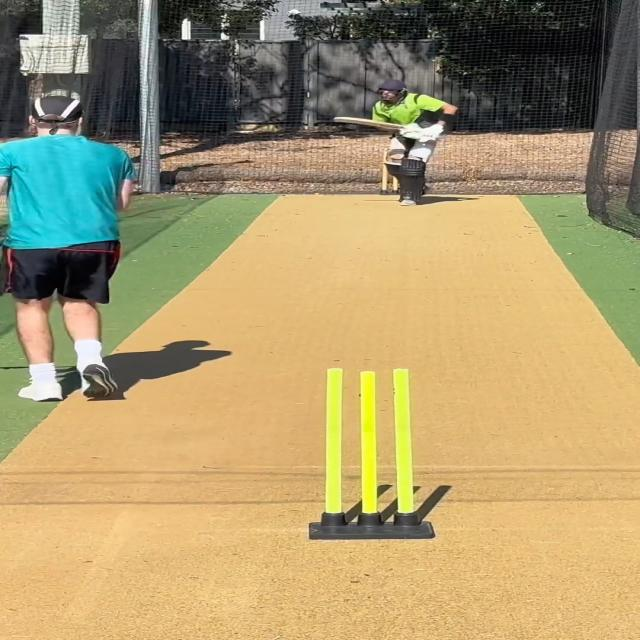stump: (305, 366, 436, 541)
